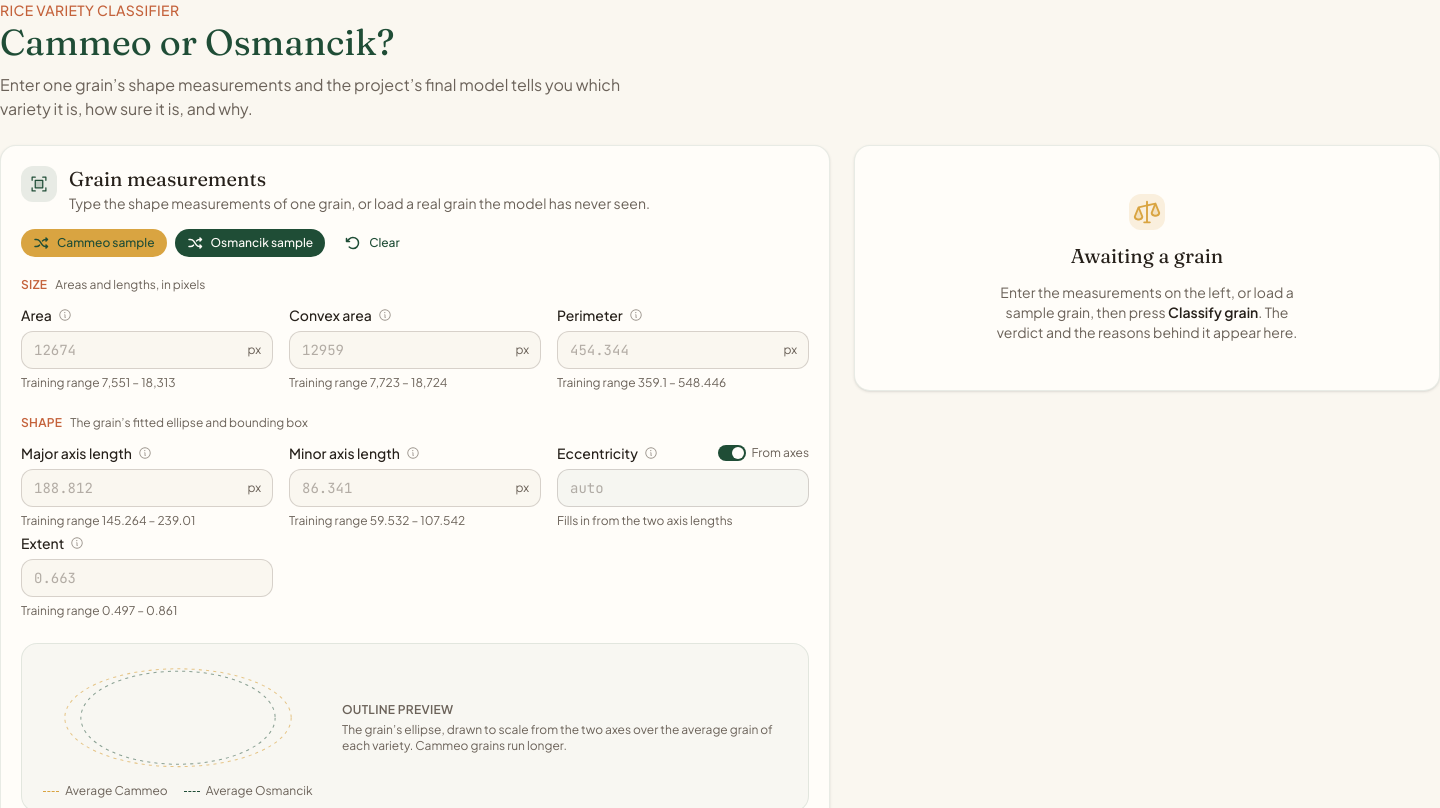
ClassifyPage › loads a held-out sample grain and scores the prediction against its label
Click the button "Cammeo sample": {"x": 94, "y": 243} 21,229 -> 167,257
(page scrolled)
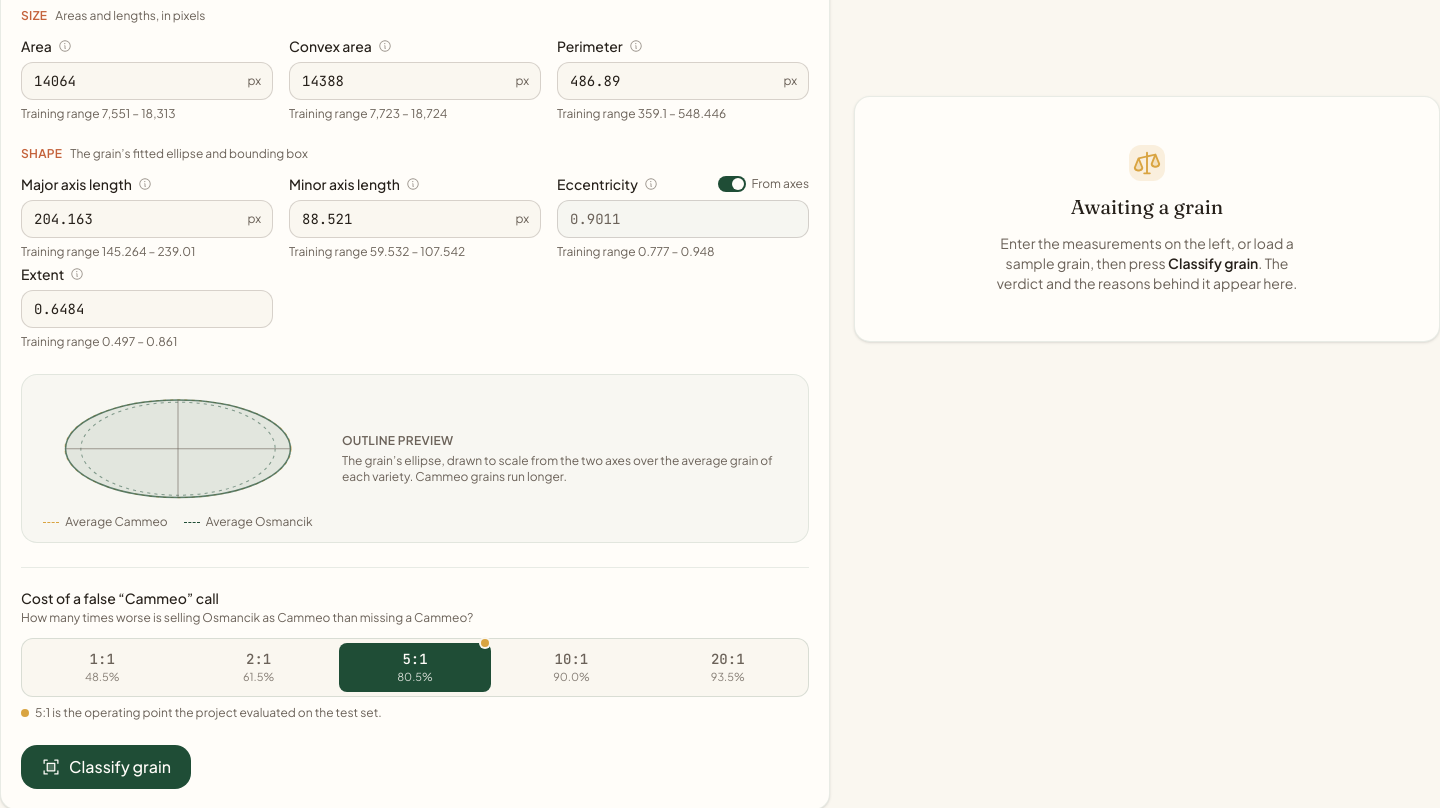
Expected: the field labelled "Area" is not empty, 21,62 -> 273,100
Click the button "Classify grain": {"x": 106, "y": 767} 21,745 -> 191,789
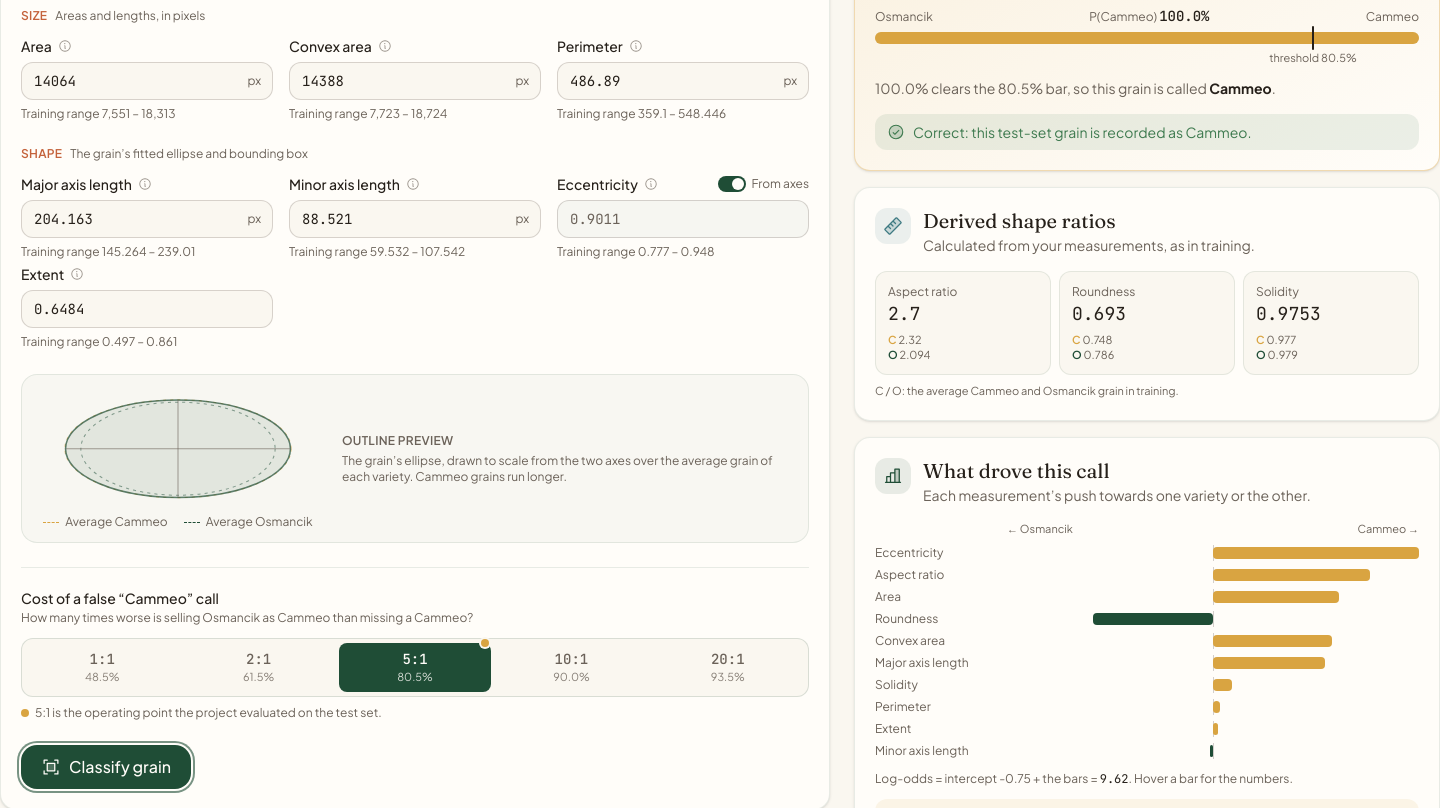
Expected: the text "Correct: this test-set grain is recorded as Cammeo." is shown, 875,114 -> 1419,150
